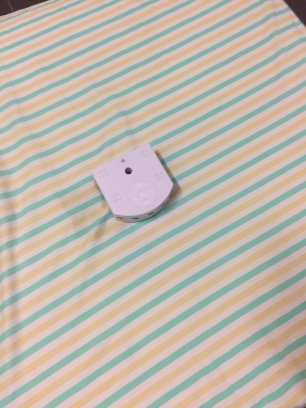thymio: (80, 140, 180, 228)
